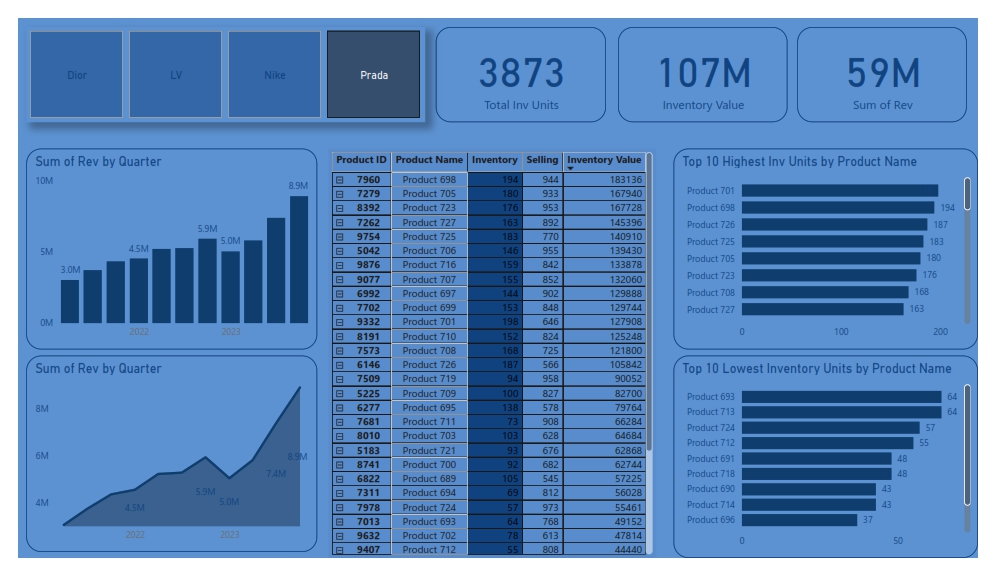

Layout of this report page (visuals, bound fields, positions):
{"tool":"powerbi","page":{"name":"Page 1","canvas":[1280,720],"ordinal":0},"visuals":[{"type":"pivotTable","fields":{"Rows":["Master.Product ID","Master.Product Name"],"Values":["Sum(Master.Inv)","Calender.Total Sp value","Calender.Inventory Value"]},"box":[414.4,174.3,436.4,546.1],"z":0},{"type":"clusteredColumnChart","fields":{"Category":["Calender.Quarter"],"Y":["Sum(Sales.Rev)"]},"box":[11,174.3,388.3,267.6],"z":1000},{"type":"stackedAreaChart","fields":{"Category":["Calender.Quarter"],"Y":["Sum(Sales.Rev)"]},"box":[11,450.1,388.3,262.1],"z":2000},{"type":"clusteredBarChart","title":"Top 10 Highest Inv Units by Product Name","fields":{"Category":["Master.Product Name"],"Y":["Calender.Total Inv Units"]},"box":[874.1,174.3,406.2,267.6],"z":3000},{"type":"clusteredBarChart","title":"Top 10 Lowest Inventory Units by Product Name","fields":{"Category":["Master.Product Name"],"Y":["Calender.Total Inv Units"]},"box":[874.1,450.1,406.2,270.3],"z":4000},{"type":"card","fields":{"Values":["Calender.Total Inv Units"]},"box":[557.1,12.3,226.4,126.2],"z":5000},{"type":"card","fields":{"Values":["Calender.Inventory Value"]},"box":[800,12.3,226.4,126.2],"z":6000},{"type":"card","fields":{"Values":["Sum(Sales.Rev)"]},"box":[1038.8,12.3,226.4,126.2],"z":7000},{"type":"advancedSlicerVisual","fields":{"Values":["Master.Brand"]},"box":[11,12.3,532.4,126.2],"z":8000}]}

Visuals, with their boxes in screenshot pixels (x1, y1, x2, y2), scaled from the page's 1280x720 canvas onto the 996x576 screenshot:
pivotTable - Master.Product ID x Master.Product Name: 322:139:662:575
clusteredColumnChart - Calender.Quarter x Sum(Sales.Rev): 9:139:311:354
stackedAreaChart - Calender.Quarter x Sum(Sales.Rev): 9:360:311:570
"Top 10 Highest Inv Units by Product Name" clusteredBarChart: 680:139:995:354
"Top 10 Lowest Inventory Units by Product Name" clusteredBarChart: 680:360:995:575
card - Calender.Total Inv Units: 433:10:610:111
card - Calender.Inventory Value: 622:10:799:111
card - Sum(Sales.Rev): 808:10:984:111
advancedSlicerVisual - Master.Brand: 9:10:423:111
